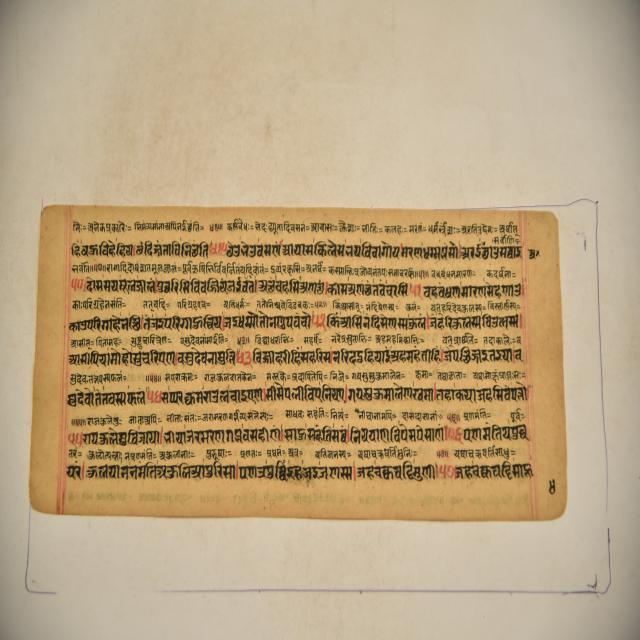text_paragraph: (26, 208, 564, 525)
